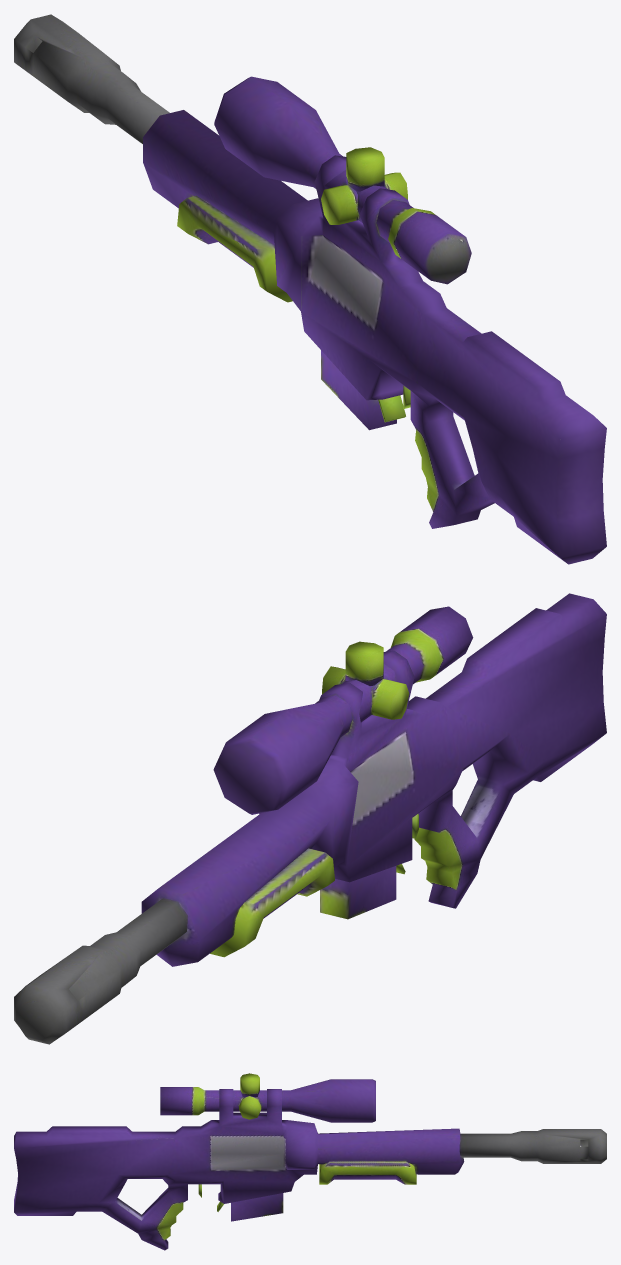
File: rifle-model.glb
3 renders of one model, top to bottom at view 1: azimuth 30°, elevation 25°; view 2: azimuth 150°, elevation 25°; view 3: azimuth 270°, elevation 25°, orthographic. The views are drawn at different scales.
Parts seen in each view (by area): view 1: tripo_node_35e8ff31-110e-4cb2-8f59-77da0e296b97; view 2: tripo_node_35e8ff31-110e-4cb2-8f59-77da0e296b97; view 3: tripo_node_35e8ff31-110e-4cb2-8f59-77da0e296b97.
Part boxes in pixels (x1,y1,x2,y2): tripo_node_35e8ff31-110e-4cb2-8f59-77da0e296b97: (14, 14, 606, 564); tripo_node_35e8ff31-110e-4cb2-8f59-77da0e296b97: (14, 593, 606, 1044); tripo_node_35e8ff31-110e-4cb2-8f59-77da0e296b97: (14, 1073, 606, 1250).
Size of the model in its own units: 0.0879 by 0.3145 by 0.998.
1 material, 1 textured.
